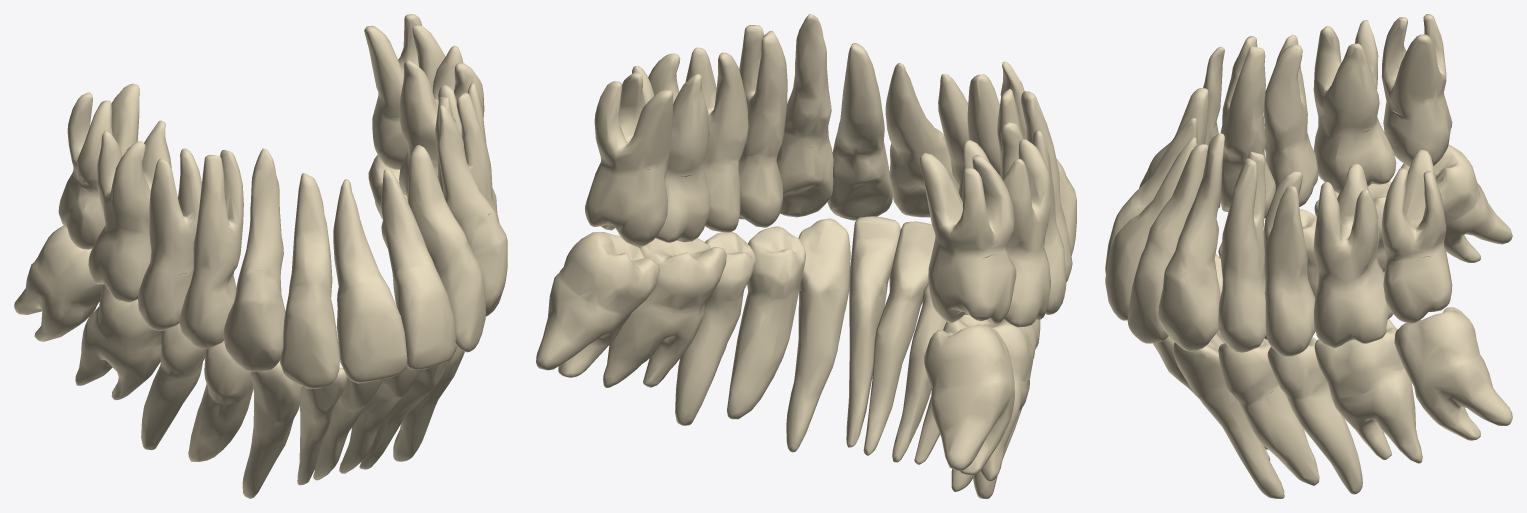
The model's file is dentes.glb.
The picture shows the model from 3 angles, left to right: view 1: azimuth 30°, elevation 25°; view 2: azimuth 150°, elevation 25°; view 3: azimuth 270°, elevation 25°; orthographic projection. The views are drawn at different scales.
Visible parts, largest first — view 1: Upper medial incisor.r, Upper first molar tooth.r, Upper lateral incisor.r, Upper canine.r, Upper first premolar.r, Upper medial incisor.l, Upper second premolar.r, Upper lateral incisor.l, Upper second molar tooth.r, Lower first molar tooth.r, Lower second molar tooth.r, Upper canine.l (+13 smaller); view 2: Upper second molar tooth.r, Upper second molar tooth.l, Lower second molar tooth.l, Lower second molar tooth.r, Lower first molar tooth.l, Lower first premolar.l, Lower canine.l, Upper canine.l, Upper first premolar.l, Upper lateral incisor.l, Upper first molar tooth.l, Upper first molar tooth.r (+14 smaller); view 3: Upper first molar tooth.l, Upper first molar tooth.r, Upper second molar tooth.l, Lower second molar tooth.l, Lower first molar tooth.l, Upper canine.l, Upper second molar tooth.r, Upper first premolar.l, Upper second premolar.l, Lower first premolar.l, Upper second premolar.r, Lower second premolar.l (+11 smaller).
Part boxes in pixels (x1,y1,x2,y2): Upper medial incisor.r: (333,179,407,383); Upper first molar tooth.r: (88,120,171,302); Upper lateral incisor.r: (280,173,339,388); Upper canine.r: (223,148,285,372); Upper first premolar.r: (179,150,243,348); Upper medial incisor.l: (381,169,455,369); Upper second premolar.r: (138,148,201,330); Upper lateral incisor.l: (408,145,485,352); Upper second molar tooth.r: (58,83,139,249); Lower first molar tooth.r: (75,284,162,400); Lower second molar tooth.r: (14,225,103,341); Upper canine.l: (438,105,507,316); Upper second molar tooth.r: (919,152,1016,324); Upper second molar tooth.l: (585,72,673,246); Lower second molar tooth.l: (536,232,659,377); Lower second molar tooth.r: (924,324,1014,474); Lower first molar tooth.l: (603,238,726,387); Lower first premolar.l: (727,226,805,419); Lower canine.l: (786,218,850,452); Upper canine.l: (776,14,833,217); Upper first premolar.l: (739,25,787,227); Upper lateral incisor.l: (827,43,892,220); Upper first molar tooth.l: (632,53,710,242); Upper first molar tooth.r: (958,139,1051,327); Upper first molar tooth.l: (1313,164,1392,347); Upper first molar tooth.r: (1313,20,1396,193); Upper second molar tooth.l: (1381,149,1452,323); Lower second molar tooth.l: (1394,307,1512,440); Lower first molar tooth.l: (1314,319,1422,463); Upper canine.l: (1158,133,1224,351); Upper second molar tooth.r: (1381,14,1452,166); Upper first premolar.l: (1218,151,1266,352); Upper second premolar.l: (1264,171,1315,356); Lower first premolar.l: (1218,338,1319,485); Upper second premolar.r: (1264,34,1318,206); Lower second premolar.l: (1267,337,1362,494).
Size of the model in its own units: 0.0643 by 0.0561 by 0.0556.
